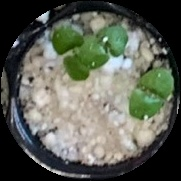Basil: (128, 67, 175, 120), (52, 28, 90, 84), (80, 26, 128, 65)
